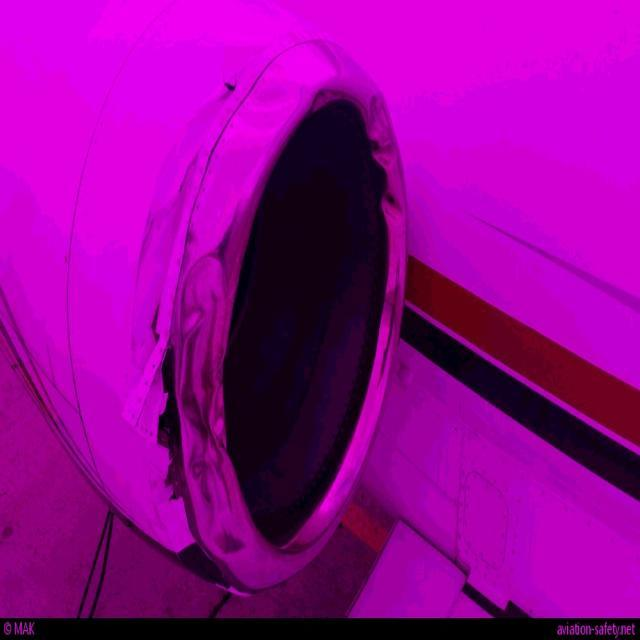dent: (182, 259, 249, 553), (367, 87, 399, 171), (378, 282, 406, 374), (382, 187, 407, 221)
